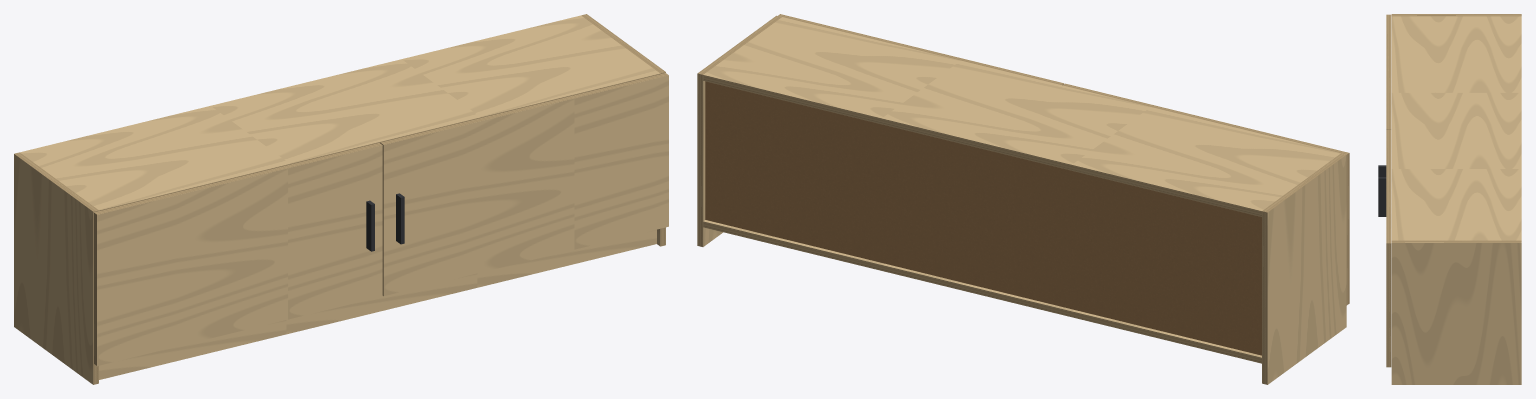
Rendered from SAB-MED-std.glb.
3 renders of one model, left to right at view 1: azimuth 30°, elevation 25°; view 2: azimuth 150°, elevation 25°; view 3: azimuth 270°, elevation 25°, orthographic. The views are drawn at different scales.
Parts seen in each view (by area): view 1: top:sheet:eyJtIjoicGx5Iiwic2lkZSI6ImZhY2UiLCJzZWVkIjo2LCJ2ZW, door-l:sheet:eyJtIjoicGx5Iiwic2lkZSI6ImZhY2UiLCJzZWVkIjoyLCJ, door-r:sheet:eyJtIjoicGx5Iiwic2lkZSI6ImZhY2UiLCJzZWVkIjoyLCJ, side-l:sheet:eyJtIjoicGx5Iiwic2lkZSI6ImZhY2UiLCJzZWVkIjoxLCJ, plinth:sheet:eyJtIjoicGx5Iiwic2lkZSI6ImZhY2UiLCJzZWVkIjozLCJ, door-l:sheet:eyJtIjoicGx5Iiwic2lkZSI6ImVkZ2UtbG9uZyIsInNlZWQ, door-r:sheet:eyJtIjoicGx5Iiwic2lkZSI6ImVkZ2UtbG9uZyIsInNlZWQ, pull, top:sheet:eyJtIjoicGx5Iiwic2lkZSI6ImVkZ2UtbG9uZyIsInNlZWQiOj; view 2: back:sheet:eyJtIjoibWRmIiwic2lkZSI6ImZhY2UiLCJzZWVkIjoxLCJ0a, top:sheet:eyJtIjoicGx5Iiwic2lkZSI6ImZhY2UiLCJzZWVkIjo2LCJ2ZW, side-l:sheet:eyJtIjoicGx5Iiwic2lkZSI6ImZhY2UiLCJzZWVkIjoxLCJ, bottom:sheet:eyJtIjoicGx5Iiwic2lkZSI6ImVkZ2UtbG9uZyIsInNlZWQ, top:sheet:eyJtIjoicGx5Iiwic2lkZSI6ImVkZ2UtbG9uZyIsInNlZWQiOj, bottom:sheet:eyJtIjoicGx5Iiwic2lkZSI6ImZhY2UiLCJzZWVkIjowLCJ, side-r:sheet:eyJtIjoicGx5Iiwic2lkZSI6ImVkZ2UtbG9uZyIsInNlZWQ, side-l:sheet:eyJtIjoicGx5Iiwic2lkZSI6ImVkZ2UtbG9uZyIsInNlZWQ, door-l:sheet:eyJtIjoicGx5Iiwic2lkZSI6ImVkZ2UtbG9uZyIsInNlZWQ, door-r:sheet:eyJtIjoicGx5Iiwic2lkZSI6ImVkZ2UtbG9uZyIsInNlZWQ, side-r:sheet:eyJtIjoicGx5Iiwic2lkZSI6ImZhY2UiLCJzZWVkIjozLCJ, door-l:sheet:eyJtIjoicGx5Iiwic2lkZSI6ImVkZ2UtZW5kIiwic2VlZCI; view 3: top:sheet:eyJtIjoicGx5Iiwic2lkZSI6ImZhY2UiLCJzZWVkIjo2LCJ2ZW, side-r:sheet:eyJtIjoicGx5Iiwic2lkZSI6ImZhY2UiLCJzZWVkIjozLCJ, door-r:sheet:eyJtIjoicGx5Iiwic2lkZSI6ImVkZ2UtZW5kIiwic2VlZCI, door-l:sheet:eyJtIjoicGx5Iiwic2lkZSI6ImVkZ2UtbG9uZyIsInNlZWQ, door-r:sheet:eyJtIjoicGx5Iiwic2lkZSI6ImVkZ2UtbG9uZyIsInNlZWQ, pull, side-l:sheet:eyJtIjoicGx5Iiwic2lkZSI6ImVkZ2UtZW5kIiwic2VlZCI, side-r:sheet:eyJtIjoicGx5Iiwic2lkZSI6ImVkZ2UtZW5kIiwic2VlZCI.
Boxes of the visible parts, left/top/right/bottom form: top:sheet:eyJtIjoicGx5Iiwic2lkZSI6ImZhY2UiLCJzZWVkIjo2LCJ2ZW: left=20, top=15, right=659, bottom=210; door-l:sheet:eyJtIjoicGx5Iiwic2lkZSI6ImZhY2UiLCJzZWVkIjoyLCJ: left=97, top=145, right=382, bottom=365; door-r:sheet:eyJtIjoicGx5Iiwic2lkZSI6ImZhY2UiLCJzZWVkIjoyLCJ: left=383, top=75, right=668, bottom=295; side-l:sheet:eyJtIjoicGx5Iiwic2lkZSI6ImZhY2UiLCJzZWVkIjoxLCJ: left=14, top=154, right=93, bottom=384; plinth:sheet:eyJtIjoicGx5Iiwic2lkZSI6ImZhY2UiLCJzZWVkIjozLCJ: left=99, top=229, right=656, bottom=379; door-l:sheet:eyJtIjoicGx5Iiwic2lkZSI6ImVkZ2UtbG9uZyIsInNlZWQ: left=94, top=143, right=382, bottom=214; door-r:sheet:eyJtIjoicGx5Iiwic2lkZSI6ImVkZ2UtbG9uZyIsInNlZWQ: left=381, top=73, right=668, bottom=144; pull: left=366, top=193, right=404, bottom=251; top:sheet:eyJtIjoicGx5Iiwic2lkZSI6ImVkZ2UtbG9uZyIsInNlZWQiOj: left=99, top=73, right=659, bottom=210; back:sheet:eyJtIjoibWRmIiwic2lkZSI6ImZhY2UiLCJzZWVkIjoxLCJ0a: left=705, top=81, right=1261, bottom=355; top:sheet:eyJtIjoicGx5Iiwic2lkZSI6ImZhY2UiLCJzZWVkIjo2LCJ2ZW: left=703, top=17, right=1340, bottom=210; side-l:sheet:eyJtIjoicGx5Iiwic2lkZSI6ImZhY2UiLCJzZWVkIjoxLCJ: left=1267, top=155, right=1346, bottom=384; bottom:sheet:eyJtIjoicGx5Iiwic2lkZSI6ImVkZ2UtbG9uZyIsInNlZWQ: left=703, top=221, right=1261, bottom=363; top:sheet:eyJtIjoicGx5Iiwic2lkZSI6ImVkZ2UtbG9uZyIsInNlZWQiOj: left=703, top=75, right=1261, bottom=216; bottom:sheet:eyJtIjoicGx5Iiwic2lkZSI6ImZhY2UiLCJzZWVkIjowLCJ: left=703, top=220, right=1261, bottom=357; side-r:sheet:eyJtIjoicGx5Iiwic2lkZSI6ImVkZ2UtbG9uZyIsInNlZWQ: left=697, top=73, right=703, bottom=246; side-l:sheet:eyJtIjoicGx5Iiwic2lkZSI6ImVkZ2UtbG9uZyIsInNlZWQ: left=1262, top=211, right=1267, bottom=384; door-l:sheet:eyJtIjoicGx5Iiwic2lkZSI6ImVkZ2UtbG9uZyIsInNlZWQ: left=1063, top=83, right=1348, bottom=154; door-r:sheet:eyJtIjoicGx5Iiwic2lkZSI6ImVkZ2UtbG9uZyIsInNlZWQ: left=778, top=14, right=1063, bottom=85; side-r:sheet:eyJtIjoicGx5Iiwic2lkZSI6ImZhY2UiLCJzZWVkIjozLCJ: left=703, top=81, right=722, bottom=246; door-l:sheet:eyJtIjoicGx5Iiwic2lkZSI6ImVkZ2UtZW5kIiwic2VlZCI: left=1346, top=153, right=1349, bottom=305; top:sheet:eyJtIjoicGx5Iiwic2lkZSI6ImZhY2UiLCJzZWVkIjo2LCJ2ZW: left=1391, top=16, right=1521, bottom=240; side-r:sheet:eyJtIjoicGx5Iiwic2lkZSI6ImZhY2UiLCJzZWVkIjozLCJ: left=1391, top=243, right=1521, bottom=384; door-r:sheet:eyJtIjoicGx5Iiwic2lkZSI6ImVkZ2UtZW5kIiwic2VlZCI: left=1386, top=243, right=1391, bottom=367; door-l:sheet:eyJtIjoicGx5Iiwic2lkZSI6ImVkZ2UtbG9uZyIsInNlZWQ: left=1386, top=14, right=1391, bottom=128; door-r:sheet:eyJtIjoicGx5Iiwic2lkZSI6ImVkZ2UtbG9uZyIsInNlZWQ: left=1386, top=129, right=1391, bottom=243; pull: left=1378, top=165, right=1386, bottom=216; side-l:sheet:eyJtIjoicGx5Iiwic2lkZSI6ImVkZ2UtZW5kIiwic2VlZCI: left=1391, top=14, right=1521, bottom=16; side-r:sheet:eyJtIjoicGx5Iiwic2lkZSI6ImVkZ2UtZW5kIiwic2VlZCI: left=1391, top=240, right=1521, bottom=242.
Size of the model in its own units: 1.8 by 0.52 by 0.4769.
Materials: 34 (33 with a texture image).
